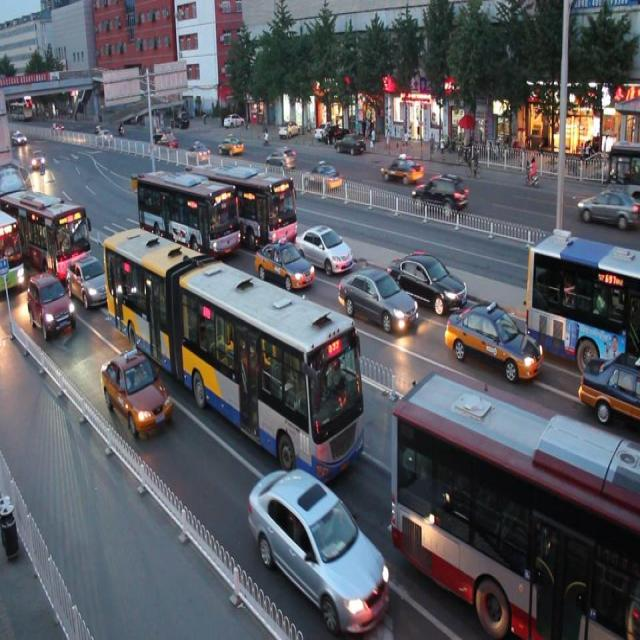car: (249, 462, 389, 628), (446, 294, 544, 382), (101, 349, 173, 438), (337, 258, 416, 331), (390, 243, 468, 309), (576, 344, 640, 418), (253, 230, 314, 289), (294, 214, 352, 273), (27, 271, 76, 338), (66, 255, 115, 309)
van: (102, 218, 366, 482), (388, 372, 640, 640), (524, 225, 640, 360), (136, 160, 240, 262), (191, 153, 298, 248), (1, 182, 90, 272), (1, 210, 25, 295)
